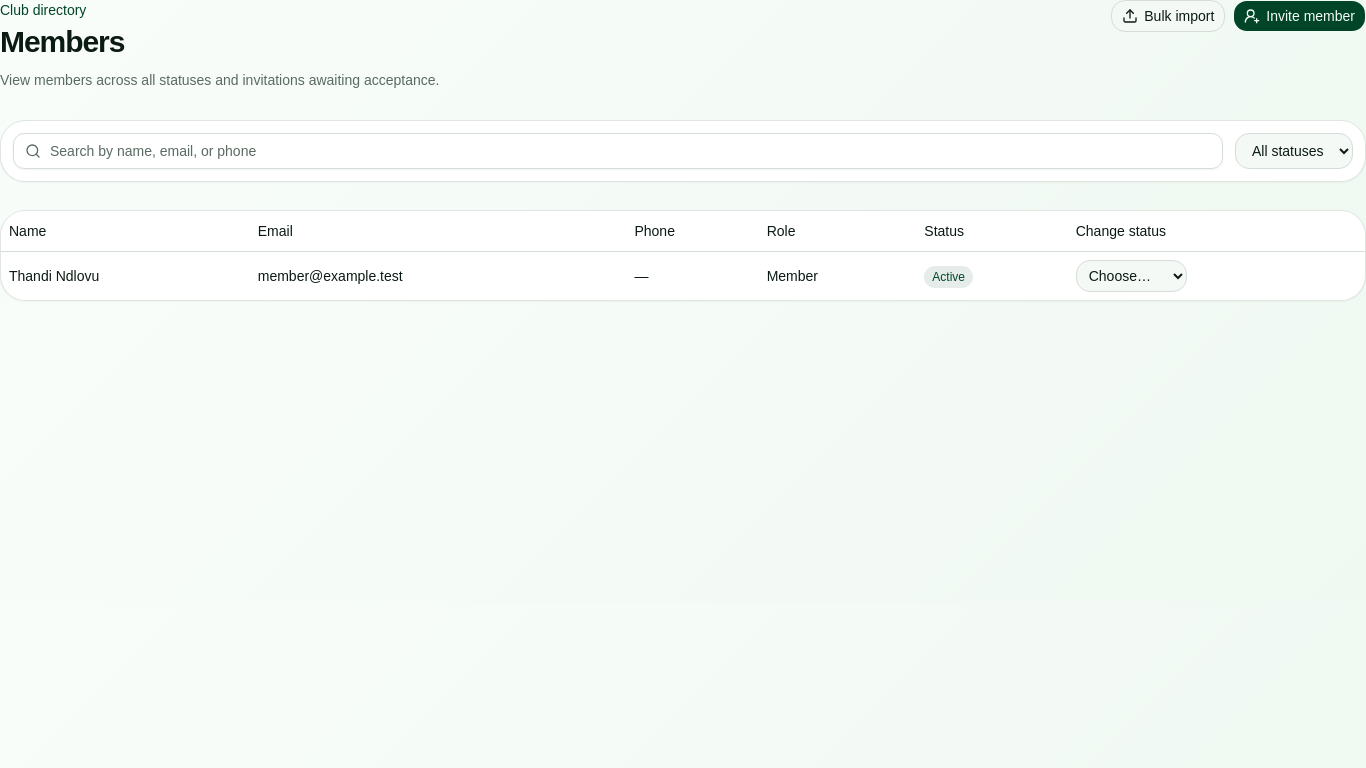
it: lists members and submits a normalized invitation
The width and height of the screenshot is (1366, 768).
Expected: the text "Thandi Ndlovu" is shown, left=1, top=251, right=250, bottom=300
Click the button "Invite member" at coordinates (1300, 16), box left=1233, top=0, right=1365, bottom=32
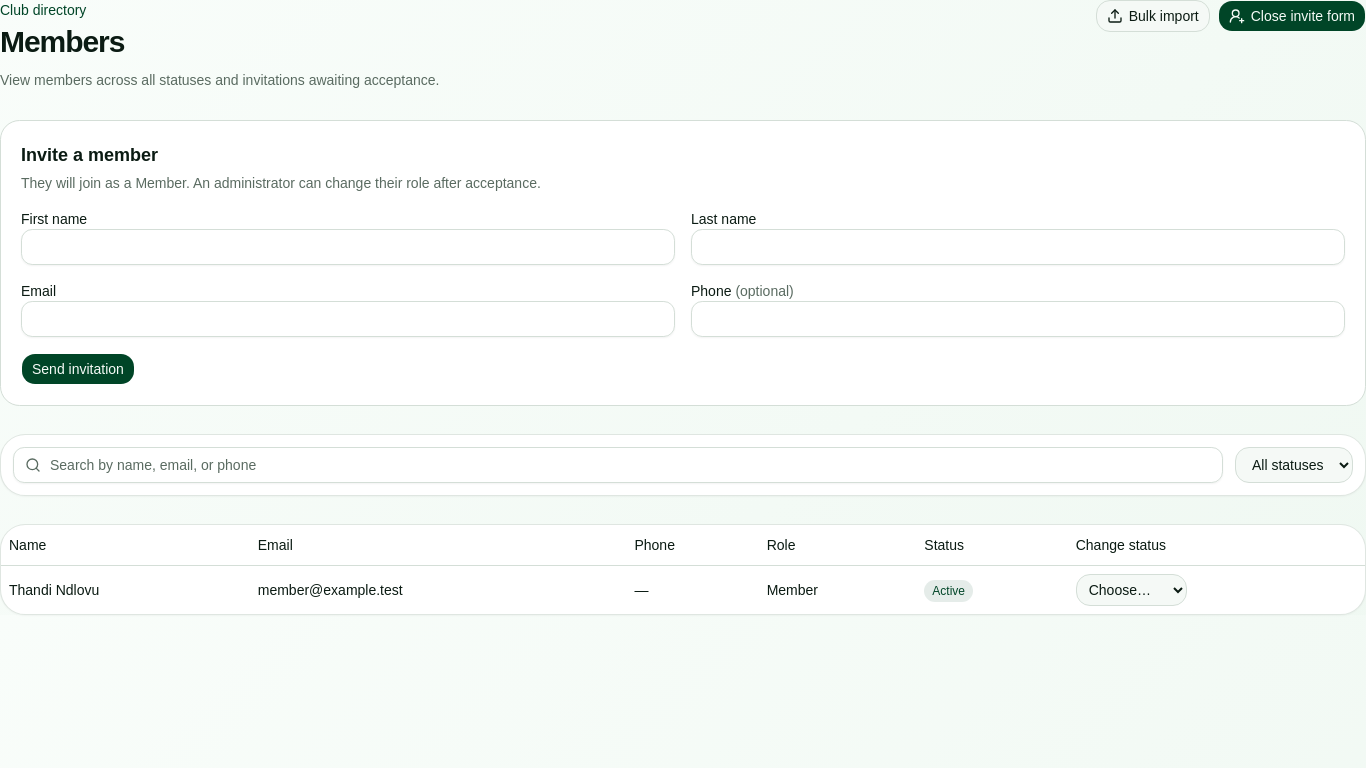
Type " Sipho " into the field labelled "First name" at coordinates (348, 247), box left=21, top=229, right=675, bottom=265
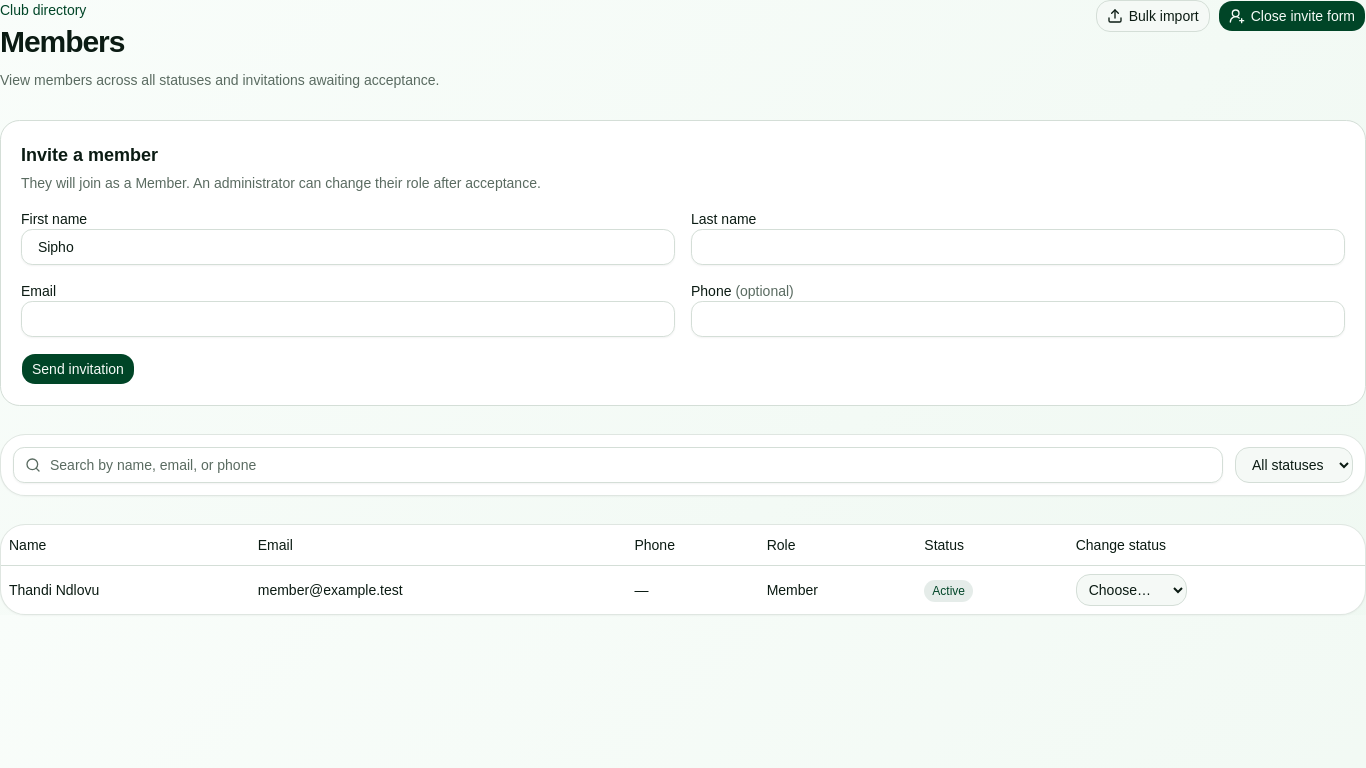
Type " Dlamini " into the field labelled "Last name" at coordinates (1018, 247), box left=691, top=229, right=1345, bottom=265
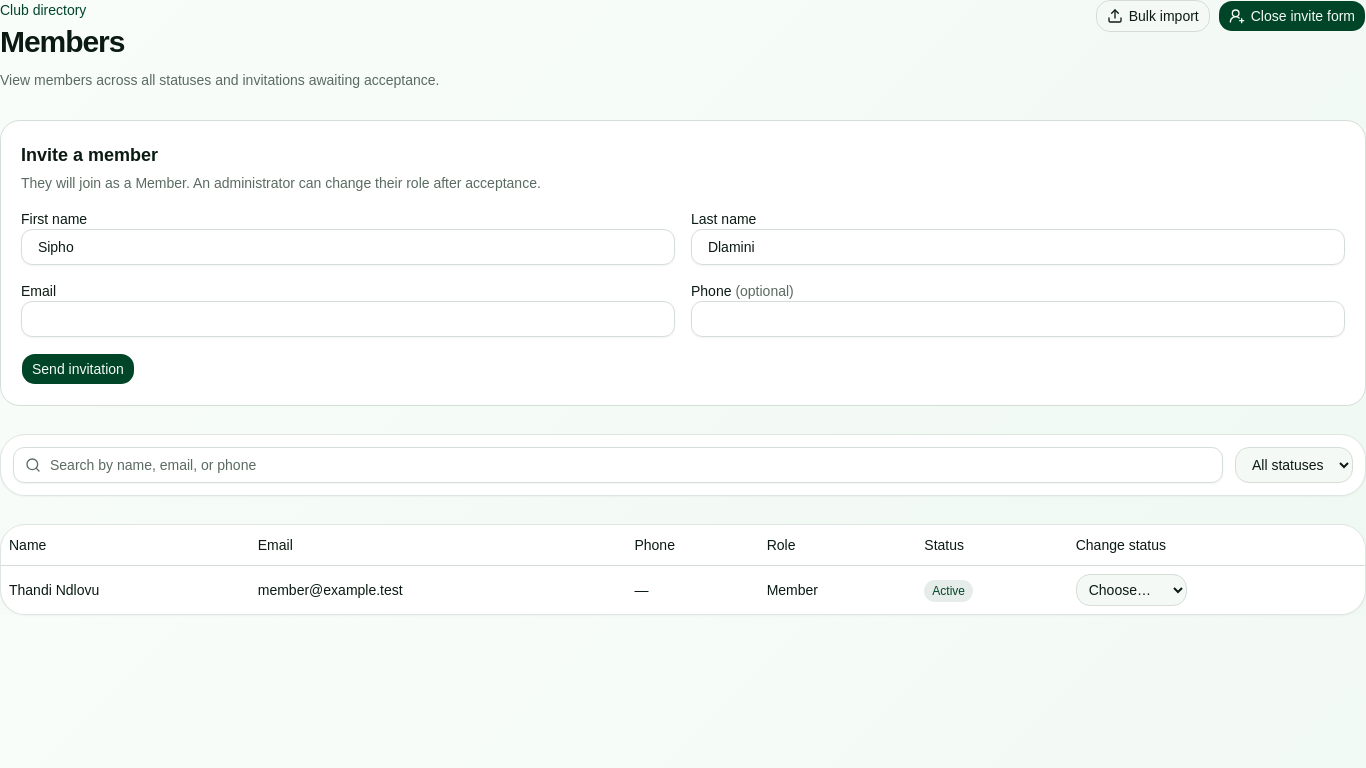
Type " sipho@example.test " into the field labelled "Email" at coordinates (348, 319), box left=21, top=301, right=675, bottom=337
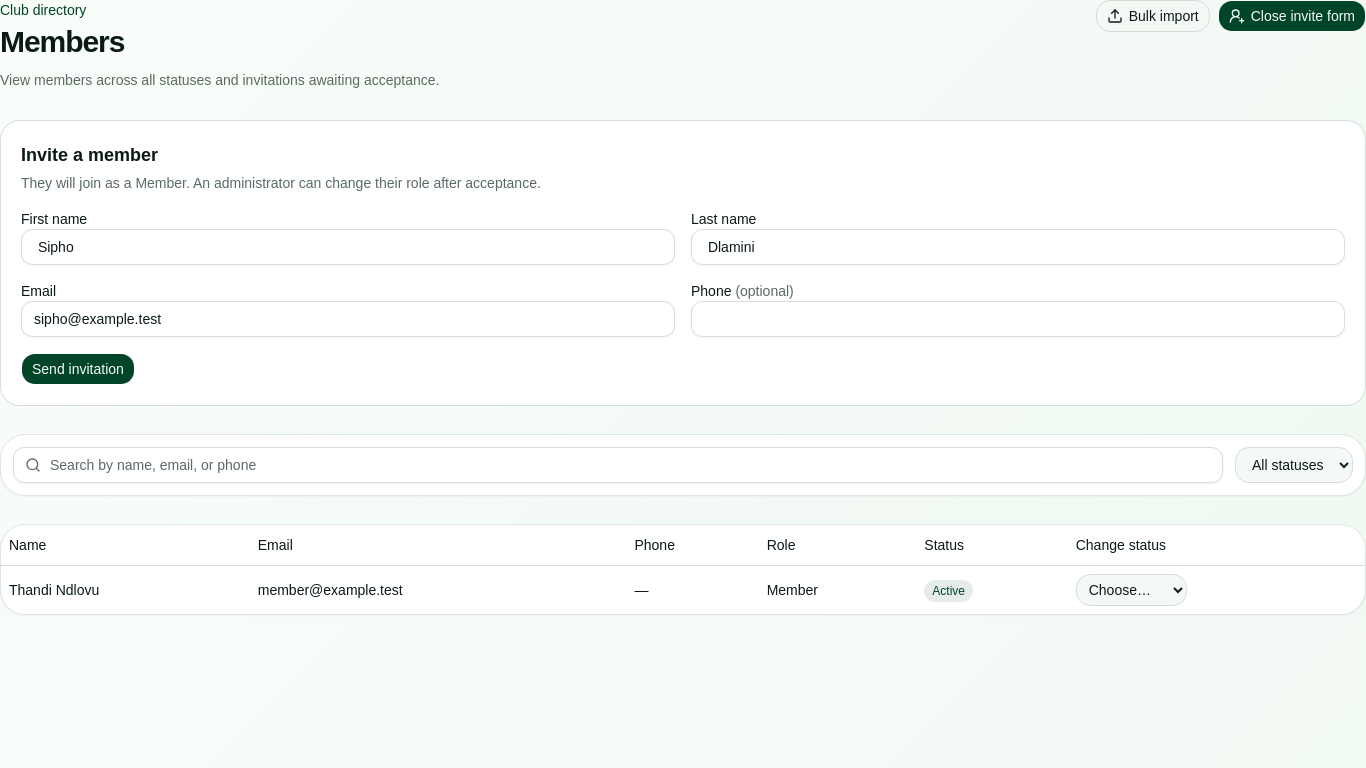
Click the button "Send invitation" at coordinates (78, 369), box left=21, top=353, right=135, bottom=385
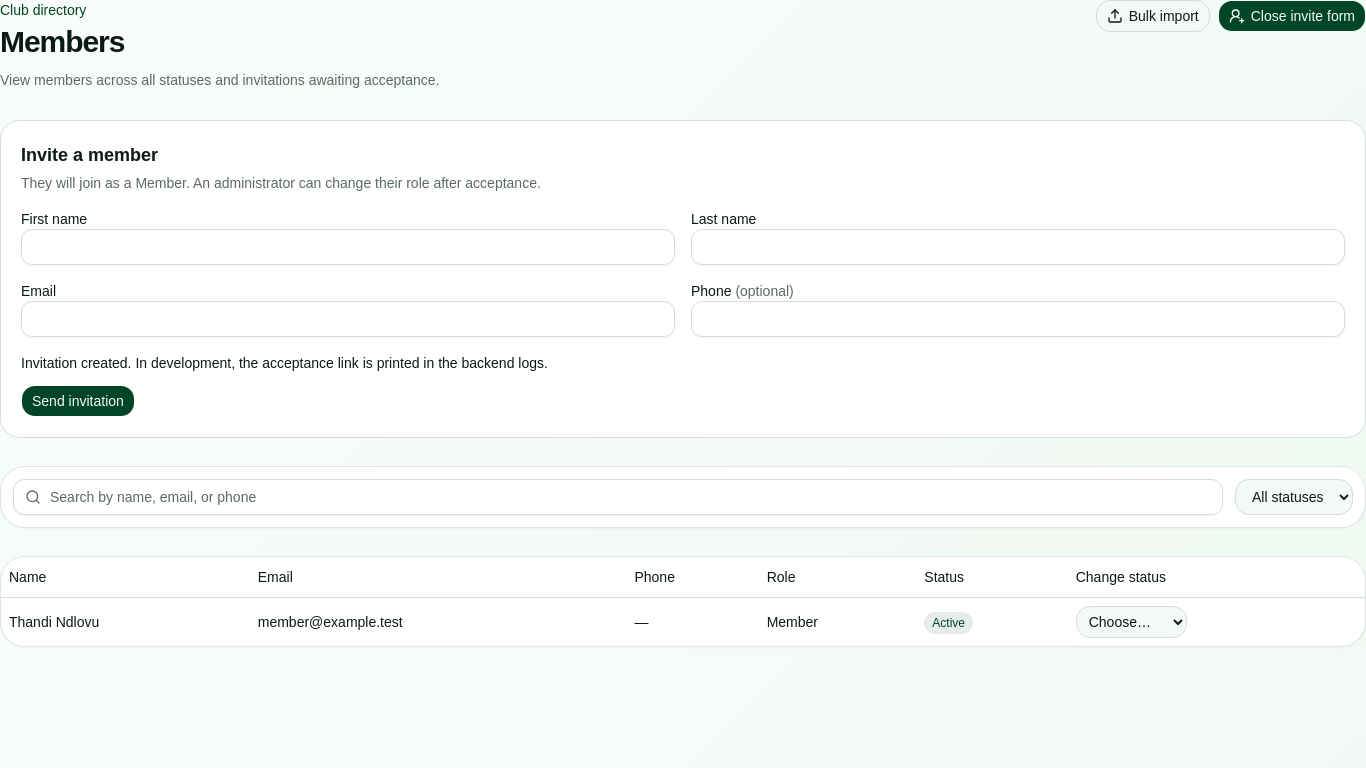
Result: the message shows "Invitation created" at left=21, top=355, right=548, bottom=371
